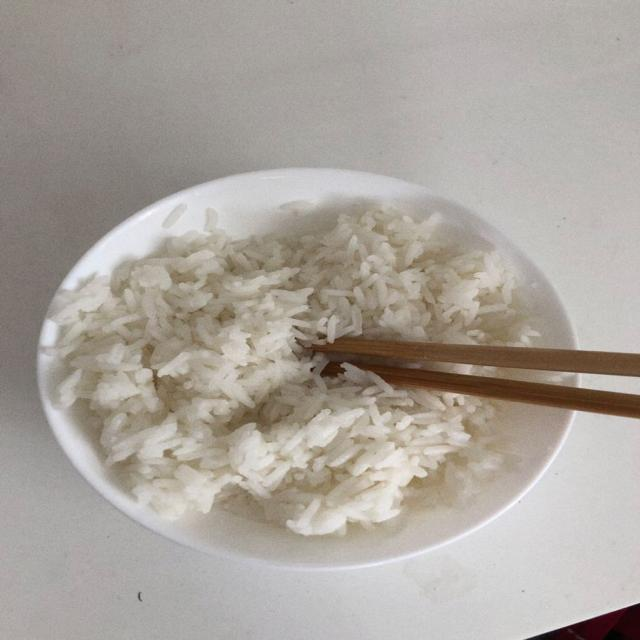rice: (54, 210, 534, 534), (163, 204, 186, 228)
